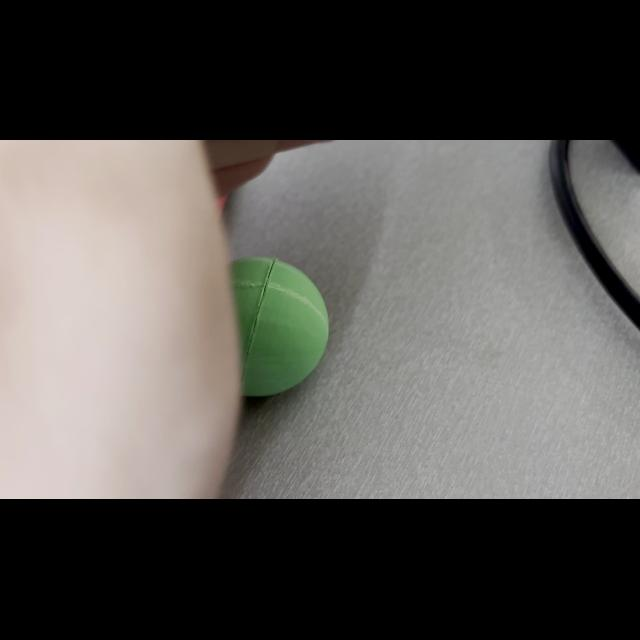objects: (224, 244, 336, 410)
